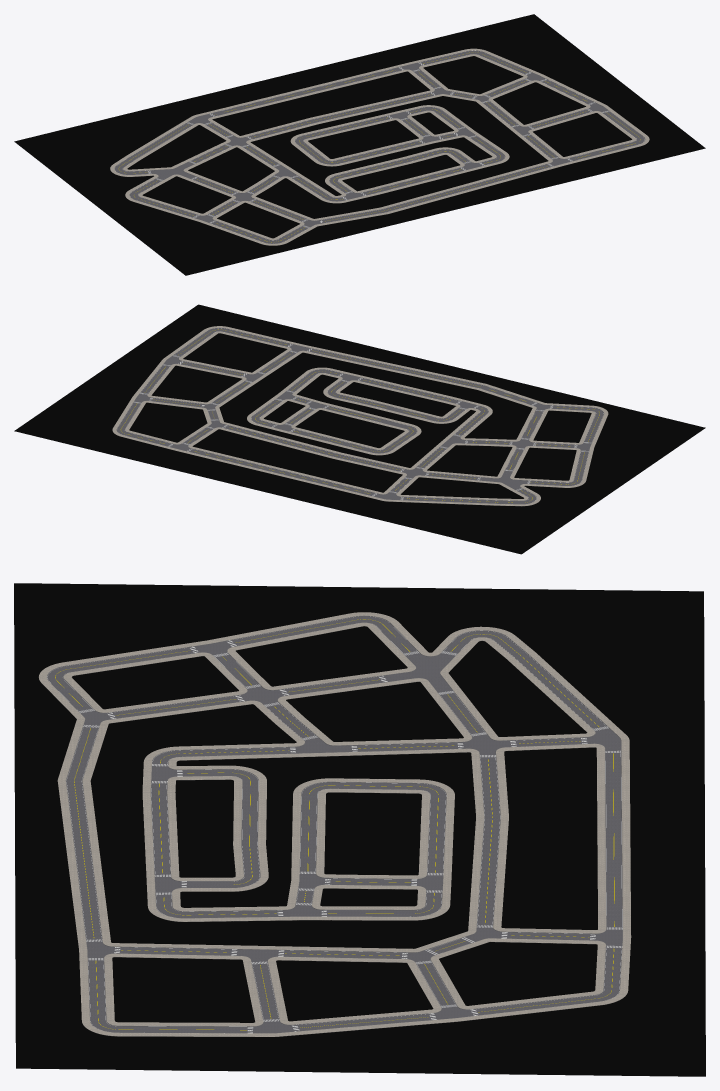
Rendered from MyRoad.fbx.
The picture shows the model from 3 angles, top to bottom: view 1: azimuth 30°, elevation 25°; view 2: azimuth 150°, elevation 25°; view 3: azimuth 270°, elevation 25°; orthographic projection. The views are drawn at different scales.
Visible parts, largest first — view 1: Plane, RoadbyPropShop; view 2: Plane, RoadbyPropShop; view 3: Plane, RoadbyPropShop.
Boxes of the visible parts, box(x1,y1,x2,y2) form: Plane: box(14, 14, 705, 275); RoadbyPropShop: box(110, 48, 649, 245); Plane: box(14, 304, 705, 554); RoadbyPropShop: box(112, 326, 608, 506); Plane: box(14, 583, 705, 1076); RoadbyPropShop: box(38, 612, 631, 1036).
Bounding box in the file's own units: 653 × 1.53 × 387.
6 materials, 3 textured.
